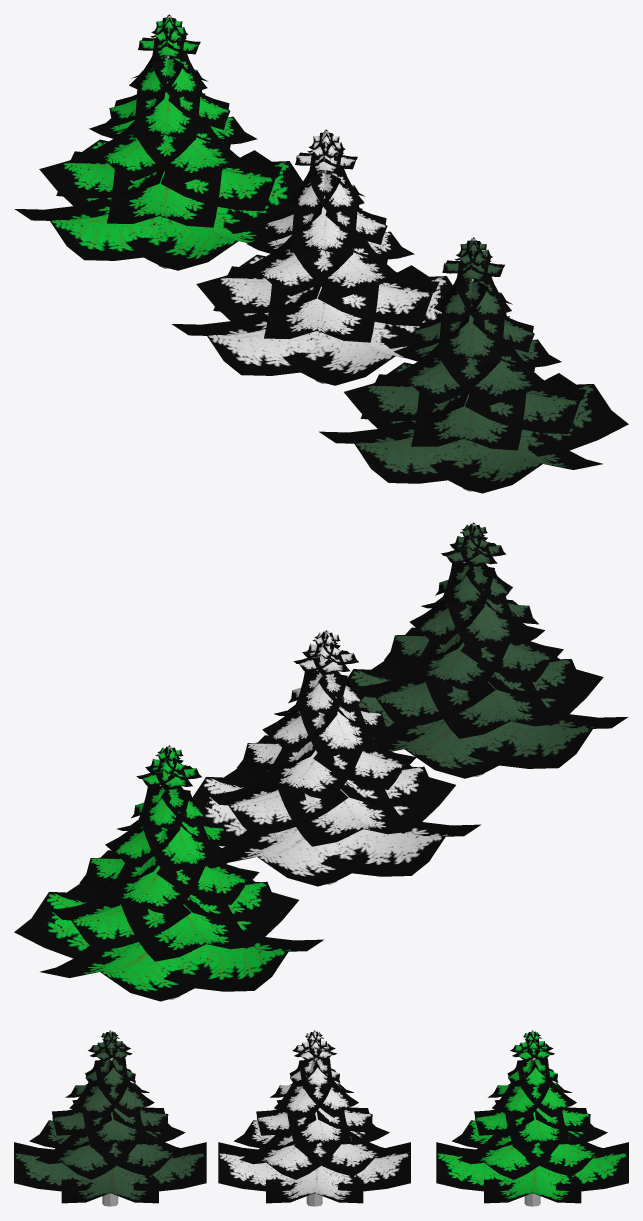
Rendered from PineTree.fbx.
3 renders of one model, top to bottom at view 1: azimuth 30°, elevation 25°; view 2: azimuth 150°, elevation 25°; view 3: azimuth 270°, elevation 25°, orthographic. The views are drawn at different scales.
Parts seen in each view (by area): view 1: Pine 3, Pine 1, Pine 2; view 2: Pine 1, Pine 2, Pine 3; view 3: Pine 3, Pine 1, Pine 2.
Part boxes in pixels (bbox=[...]): Pine 3: bbox=[319, 237, 628, 493]; Pine 1: bbox=[14, 14, 302, 270]; Pine 2: bbox=[172, 129, 452, 385]; Pine 1: bbox=[14, 745, 323, 1001]; Pine 2: bbox=[192, 630, 480, 886]; Pine 3: bbox=[347, 522, 627, 778]; Pine 3: bbox=[14, 1030, 206, 1203]; Pine 1: bbox=[436, 1030, 628, 1203]; Pine 2: bbox=[218, 1030, 410, 1203].
Bounding box in the file's own units: 14.14 × 14 × 45.14.
